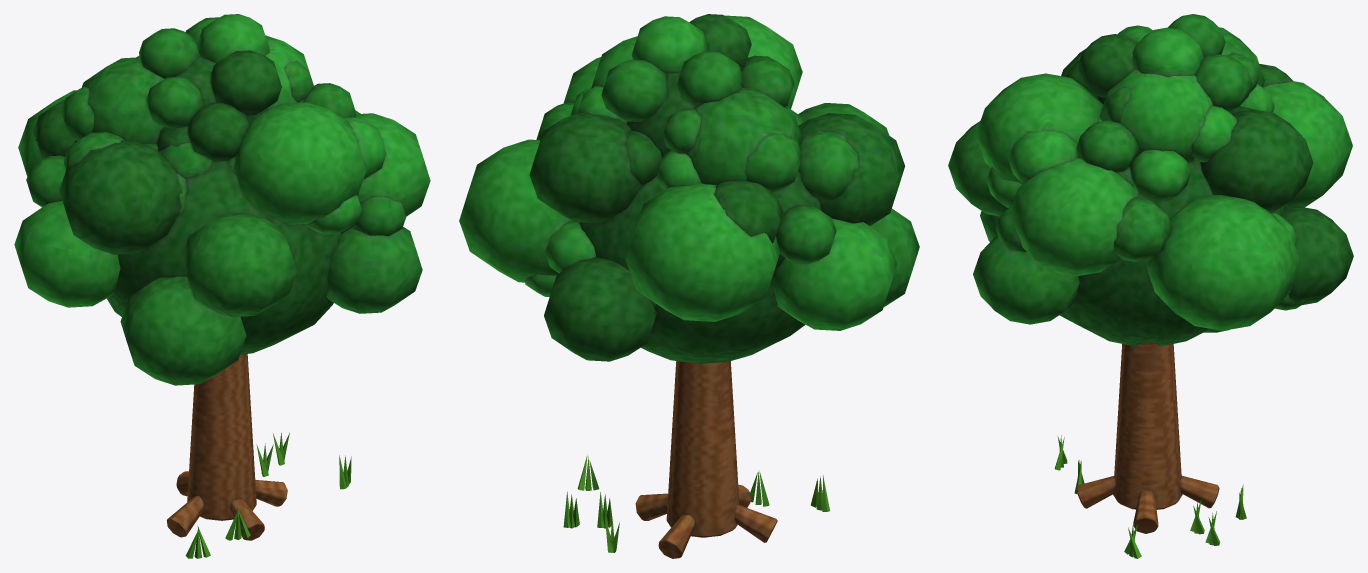
Rendered from orange_tree.glb.
3 views of the same model, side by side, from view 1: azimuth 30°, elevation 25°; view 2: azimuth 150°, elevation 25°; view 3: azimuth 270°, elevation 25° (orthographic). The views are drawn at different scales.
Parts seen in each view (by area): view 1: crown, orange_tree; view 2: crown, orange_tree; view 3: crown, orange_tree.
Part boxes in pixels (x1,y1,x2,y2): crown: (14, 14, 430, 385); orange_tree: (167, 354, 351, 558); crown: (459, 14, 919, 363); orange_tree: (563, 361, 829, 558); crown: (948, 14, 1353, 346); orange_tree: (1054, 342, 1246, 558).
Bounding box in the file's own units: 1.11 × 1.38 × 1.04.
Materials: 1 (1 with a texture image).
